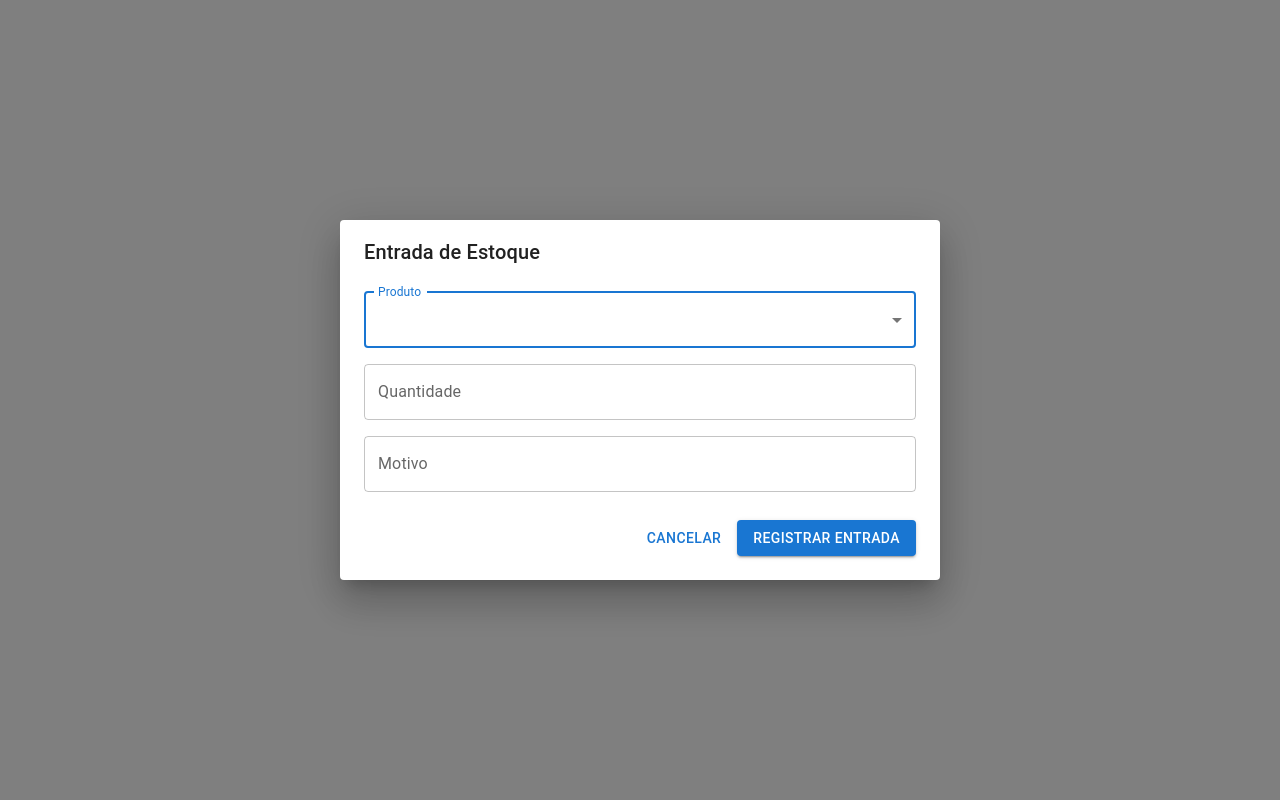
it: StockMovementDialog › deve exibir mensagens de validação e não enviar, quando campos obrigatórios estão vazios
Click the button "Registrar entrada": (827, 538) [737,520,916,556]
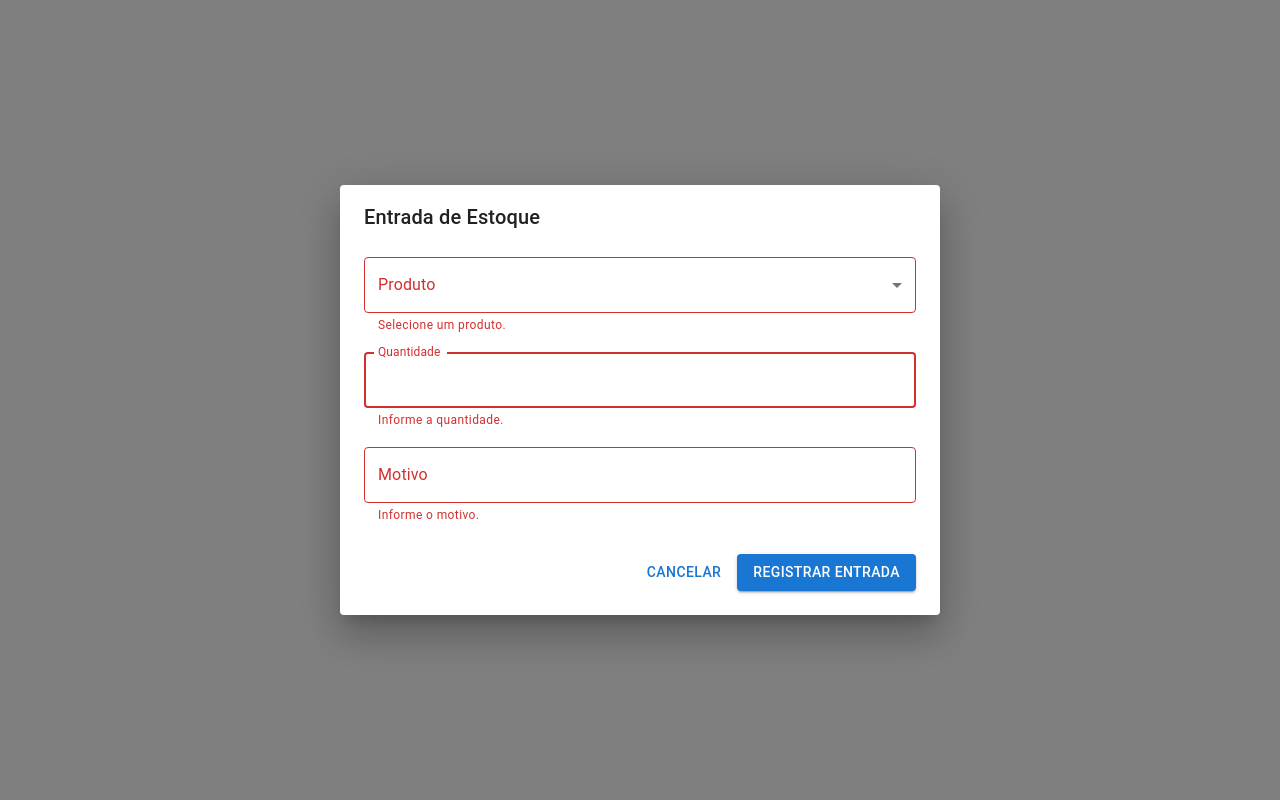
expect the text "Selecione um produto." is shown: met, box [378,318,506,332]
expect the text "Informe a quantidade." is shown: met, box [378,413,504,427]
expect the text "Informe o motivo." is shown: met, box [378,508,479,522]
